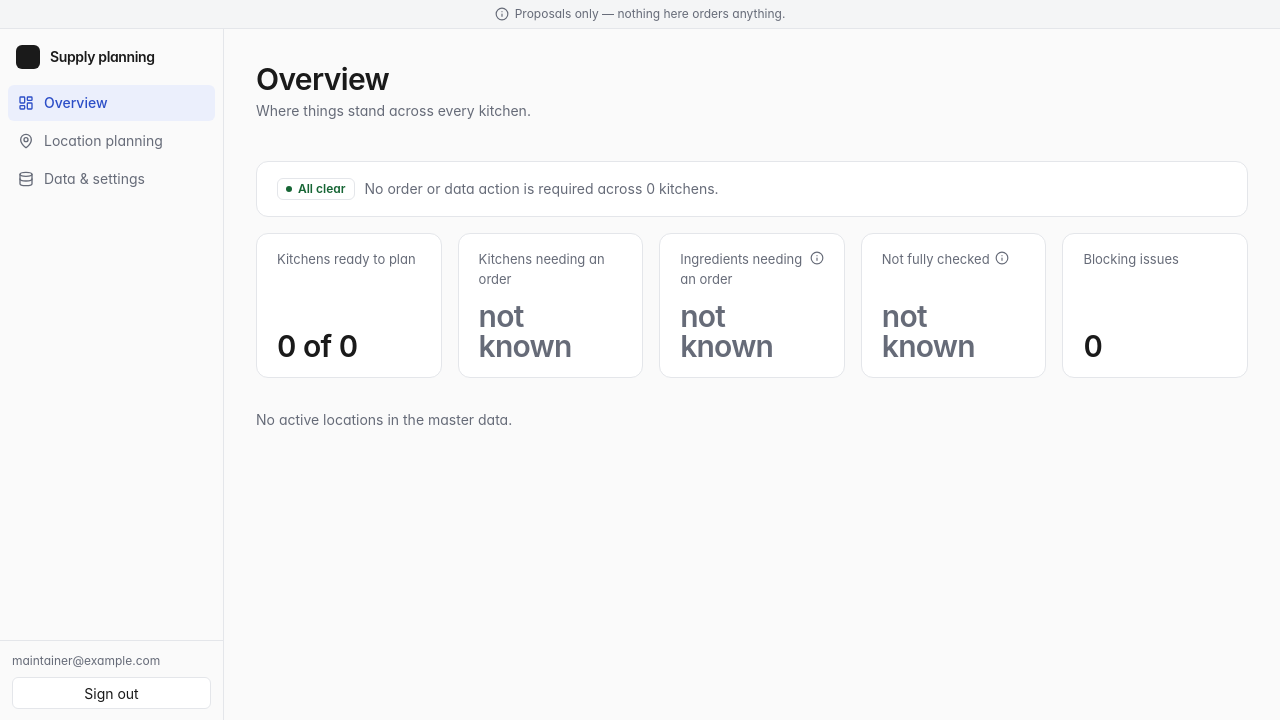
Test: navigation › reuses a recently loaded page when the maintainer navigates back
The image size is (1280, 720).
Expected: the text "No order or data action is required across 0 kitchens." is shown, x1=364 y1=179 x2=719 y2=199
Click the link "Data & settings" at (81, 178), box x1=18 y1=170 x2=145 y2=187
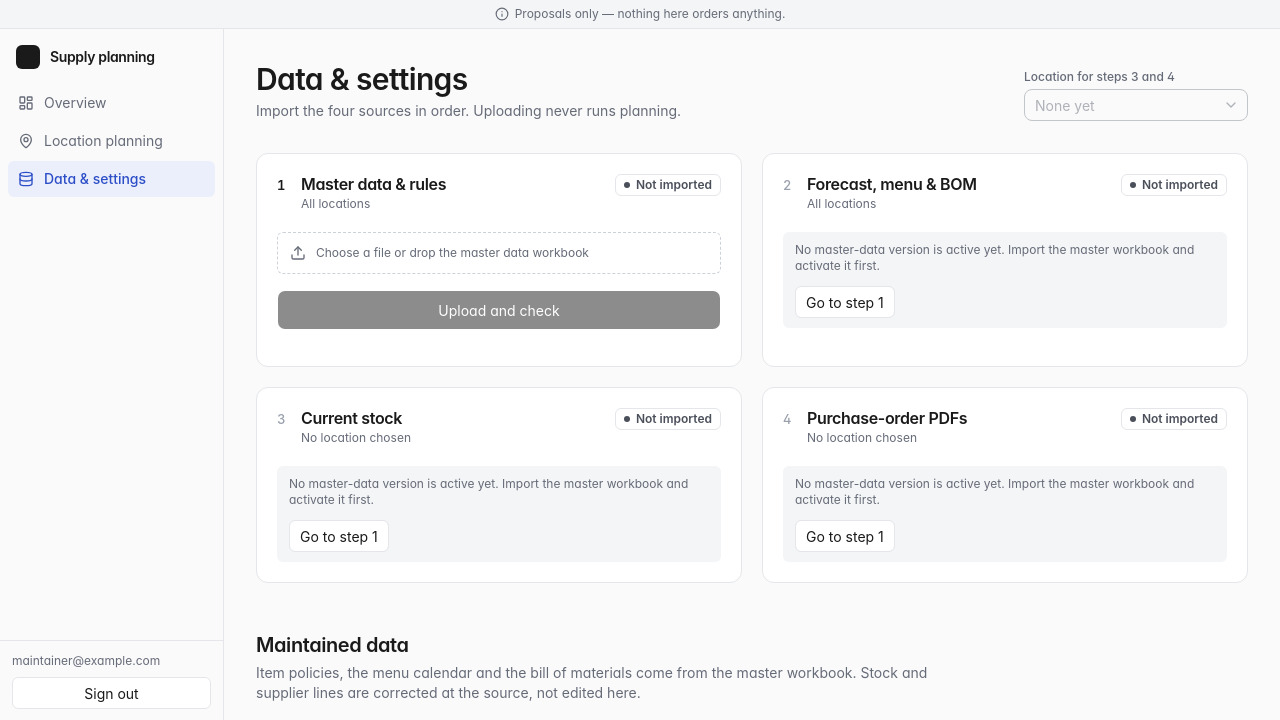
Expected: the heading "Data & settings" is shown, x1=256 y1=61 x2=468 y2=97
Click the link "Overview" at (62, 102), box x1=18 y1=94 x2=107 y2=111
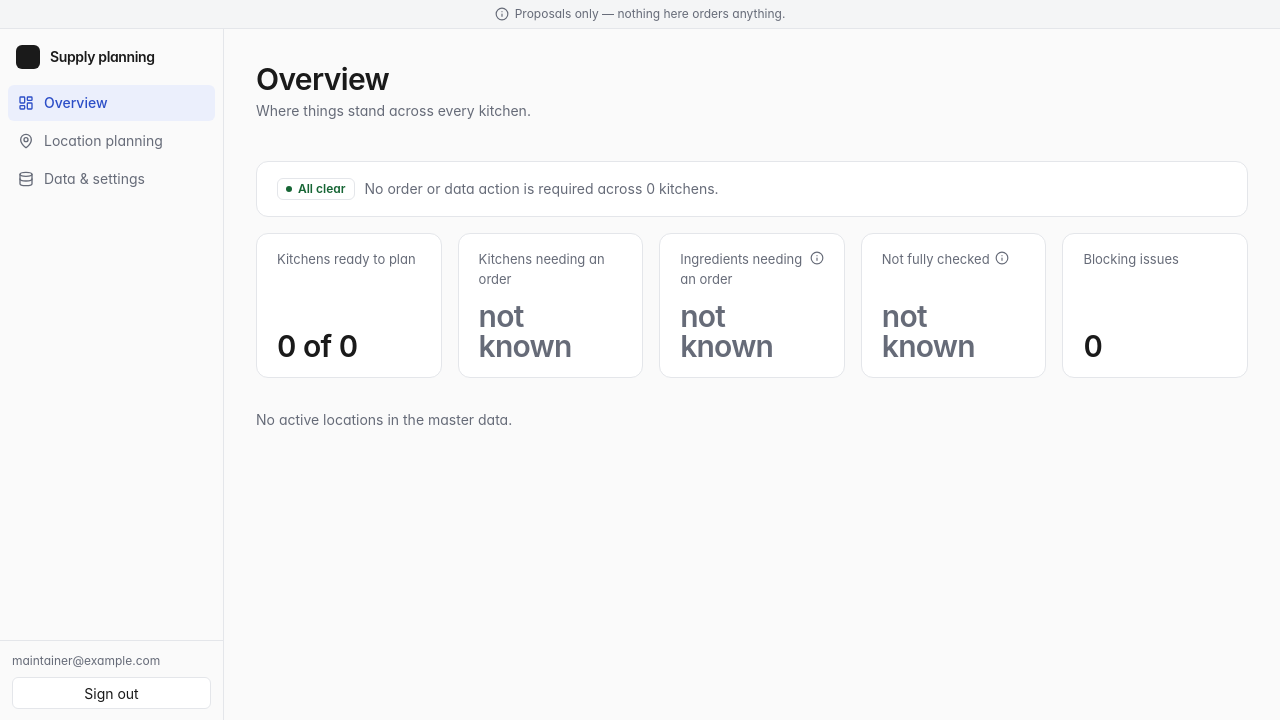
Expected: the text "No order or data action is required across 0 kitchens." is shown, x1=364 y1=179 x2=719 y2=199
